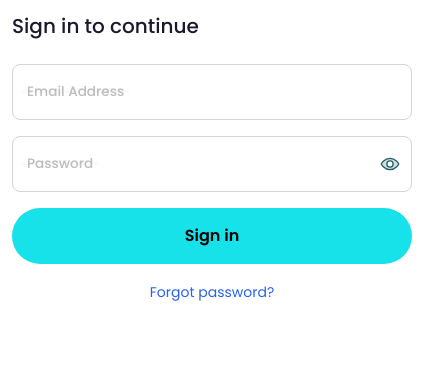
Test: GuestSignIn › input handling › shows validation error for both fields when empty on submit
The width and height of the screenshot is (430, 380).
Step 1. Click the button "Sign in" → (212, 236), box [12,208,412,264]
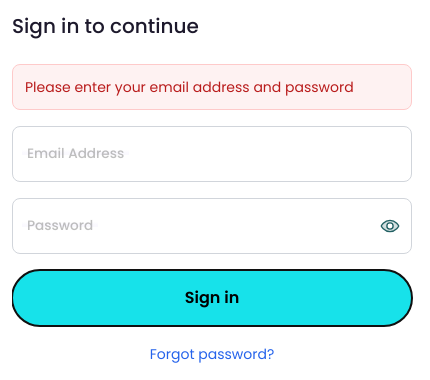
Expected: the text "Please enter your email address and password" is shown, [25,77,399,97]
